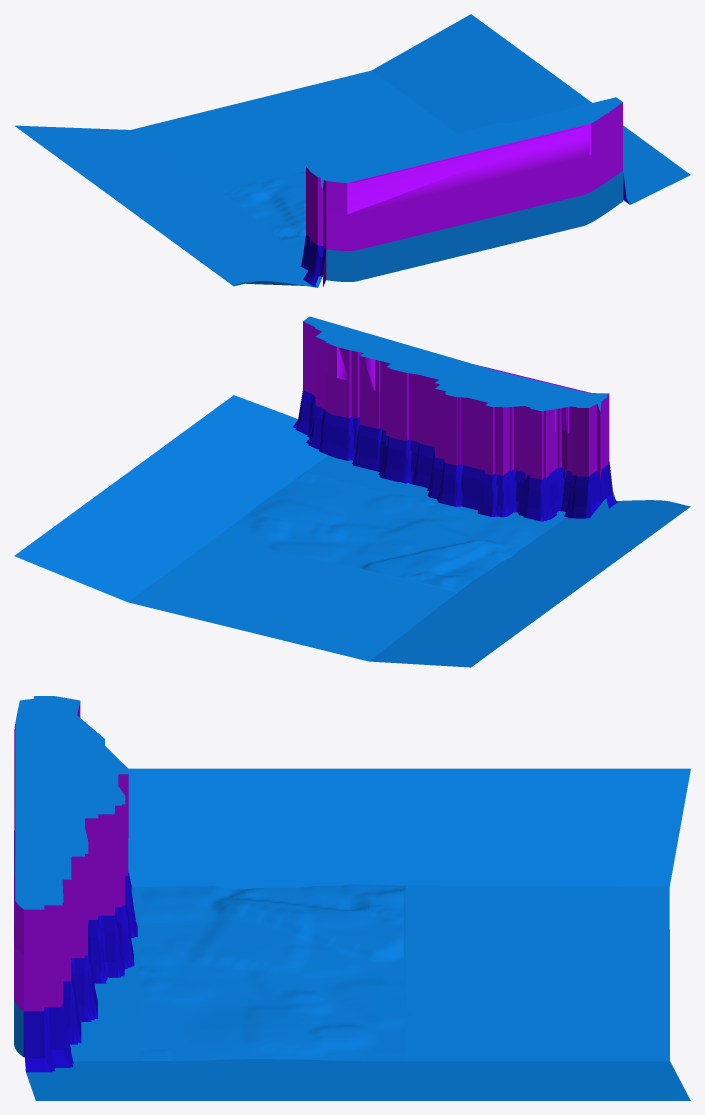
The model's file is Terrain.fbx.
3 views of the same model, one above another, from view 1: azimuth 30°, elevation 25°; view 2: azimuth 150°, elevation 25°; view 3: azimuth 270°, elevation 25° (orthographic). The views are drawn at different scales.
Parts seen in each view (by area): view 1: Plane; view 2: Plane; view 3: Plane.
Part boxes in pixels (<box>): Plane: <box>14,14,690,287</box>; Plane: <box>14,316,690,667</box>; Plane: <box>14,696,690,1100</box>.
Size of the model in its own units: 3600 by 906 by 3100.
